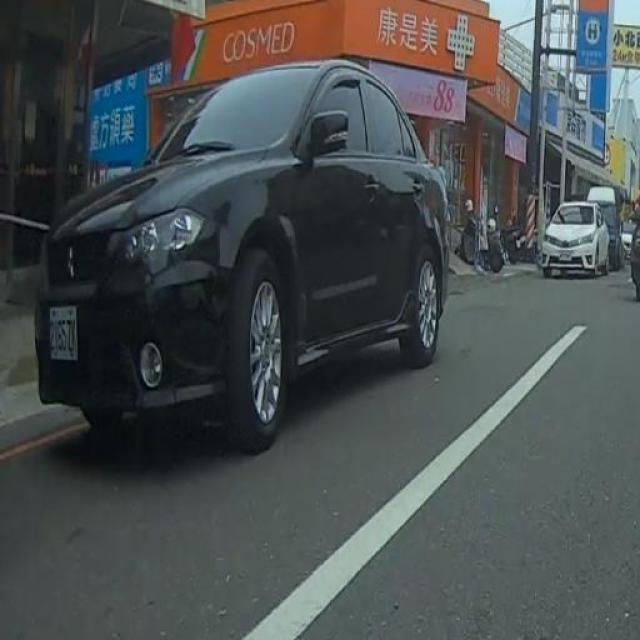illegalparking: (26, 60, 476, 485), (516, 181, 628, 293)
